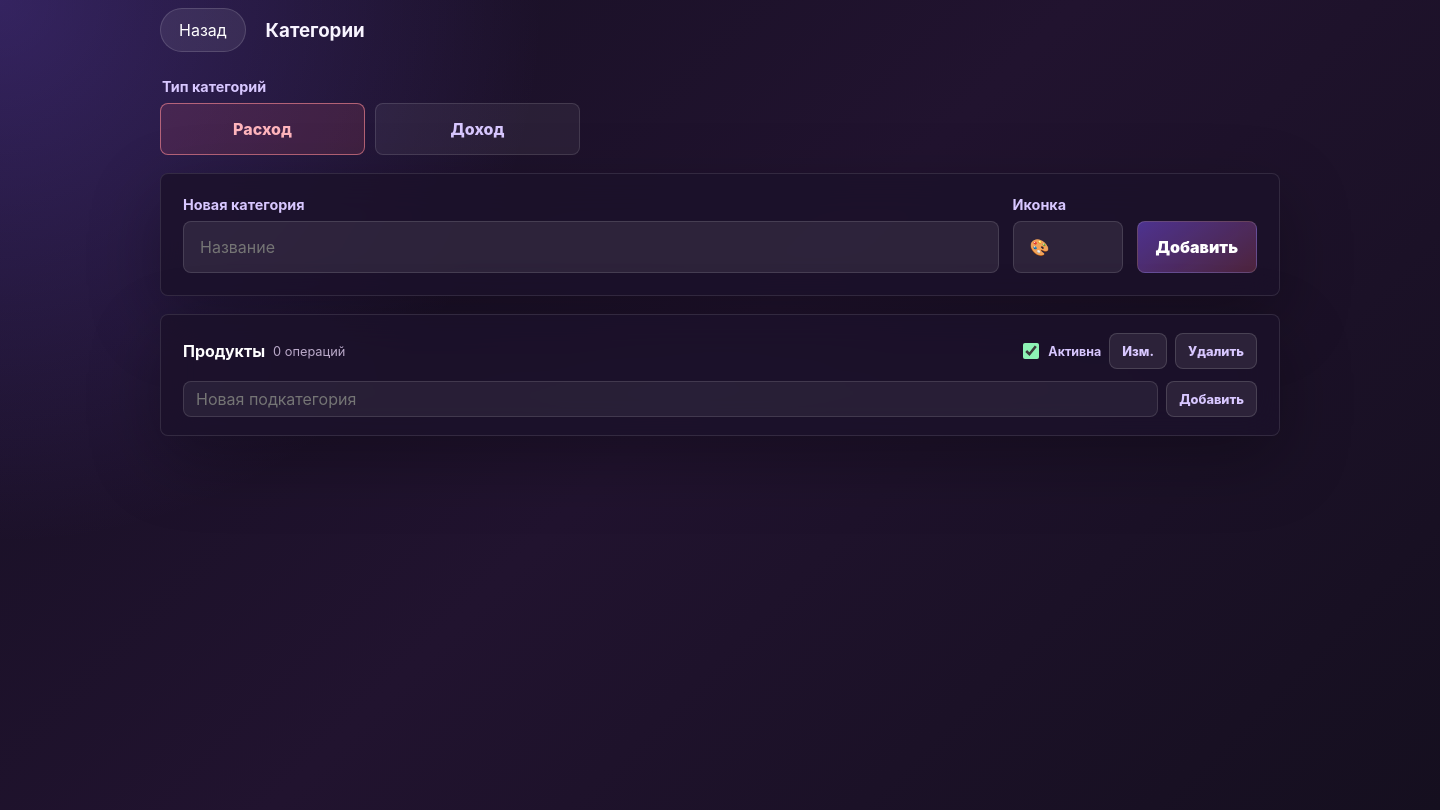
CategoriesPage › renames a category
The image size is (1440, 810).
Click the button "Изм.": (1138, 351) [1109,333,1167,369]
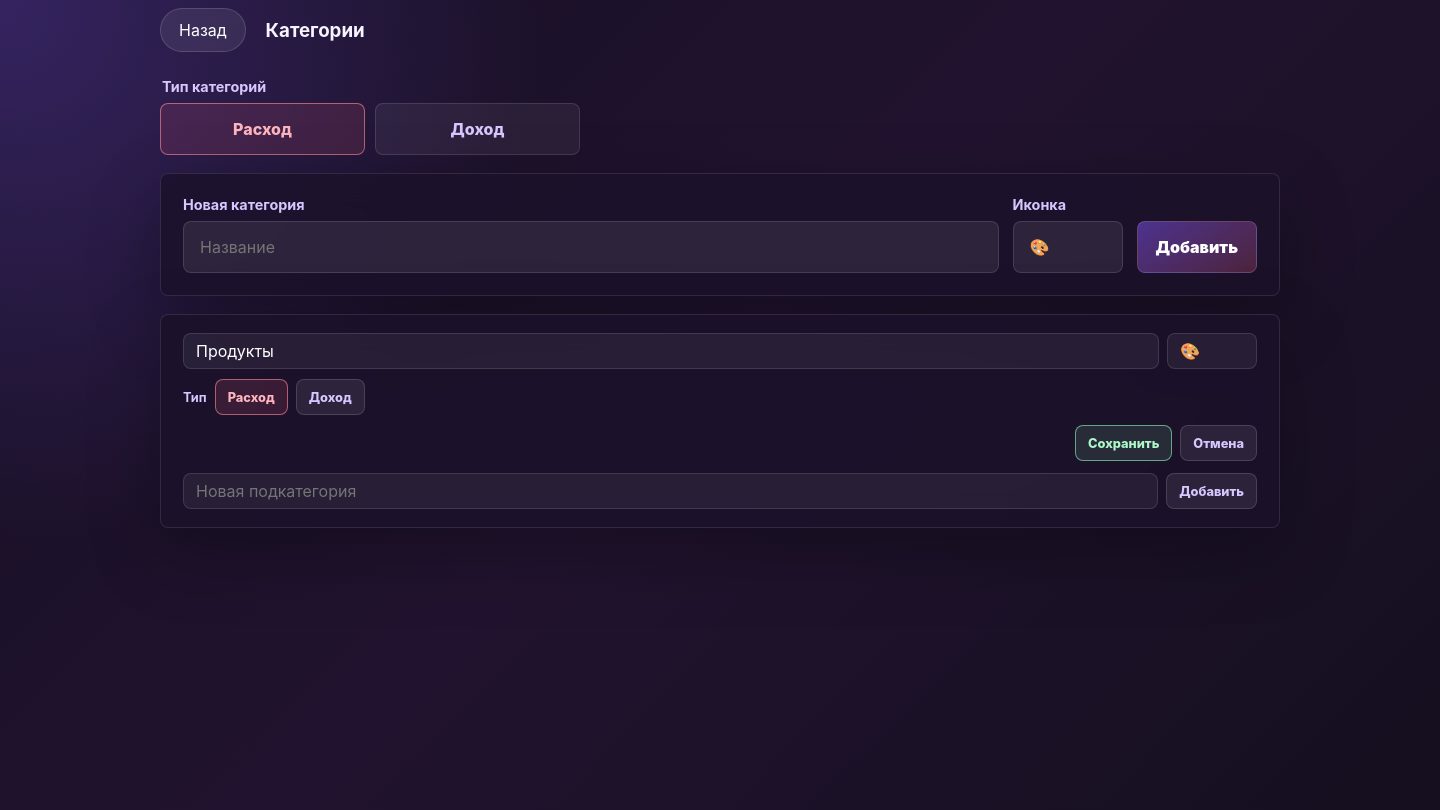
Replace the text in the 1st field with class "category-edit__input" with "Еда": (671, 351) [183,333,1159,369]
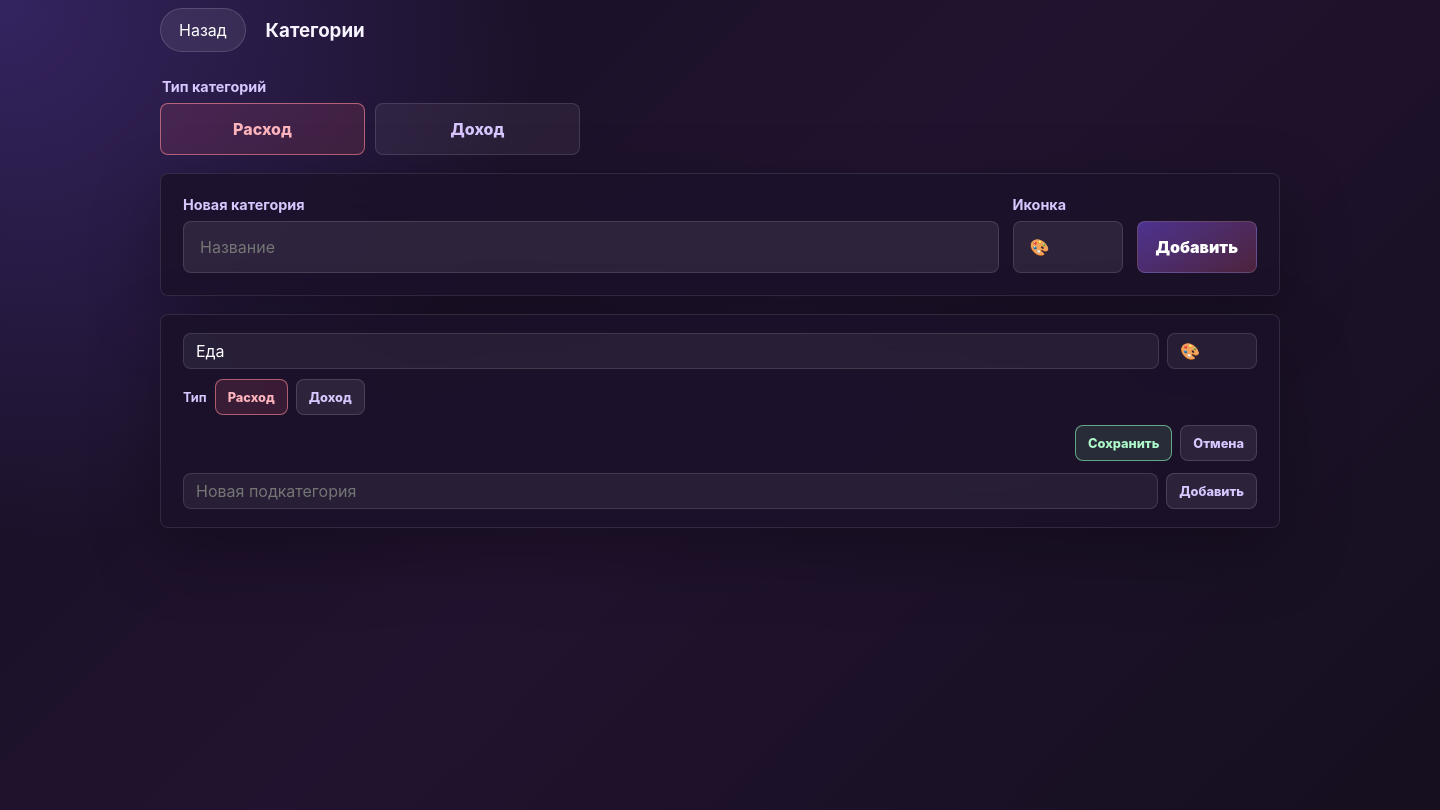
Submit the form with class "category-edit", box [183,333,1257,461]
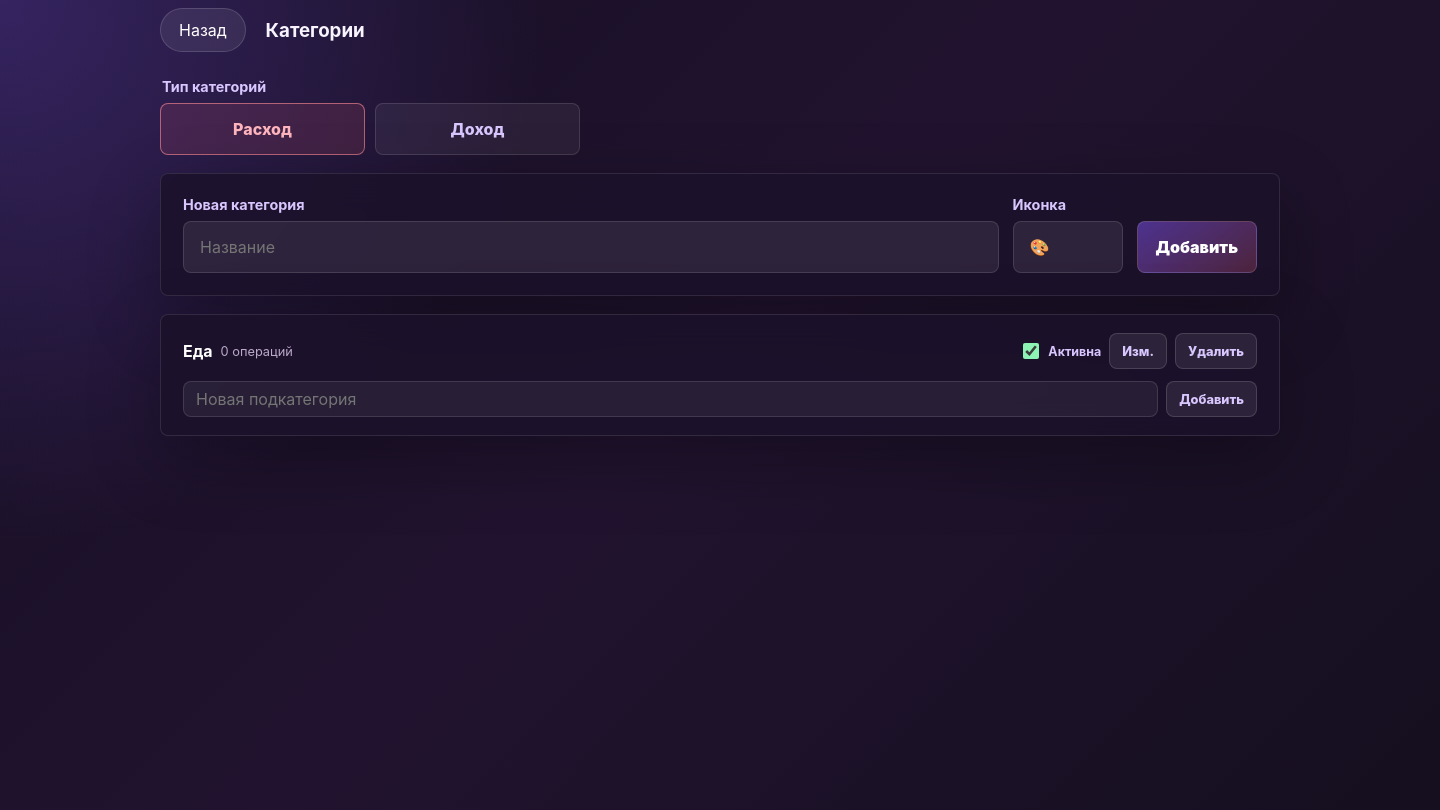
Now the text "Еда" is shown, box [183,341,213,361]
Now the element with class "category-manager__title" shows "Еда", box [183,341,213,361]
